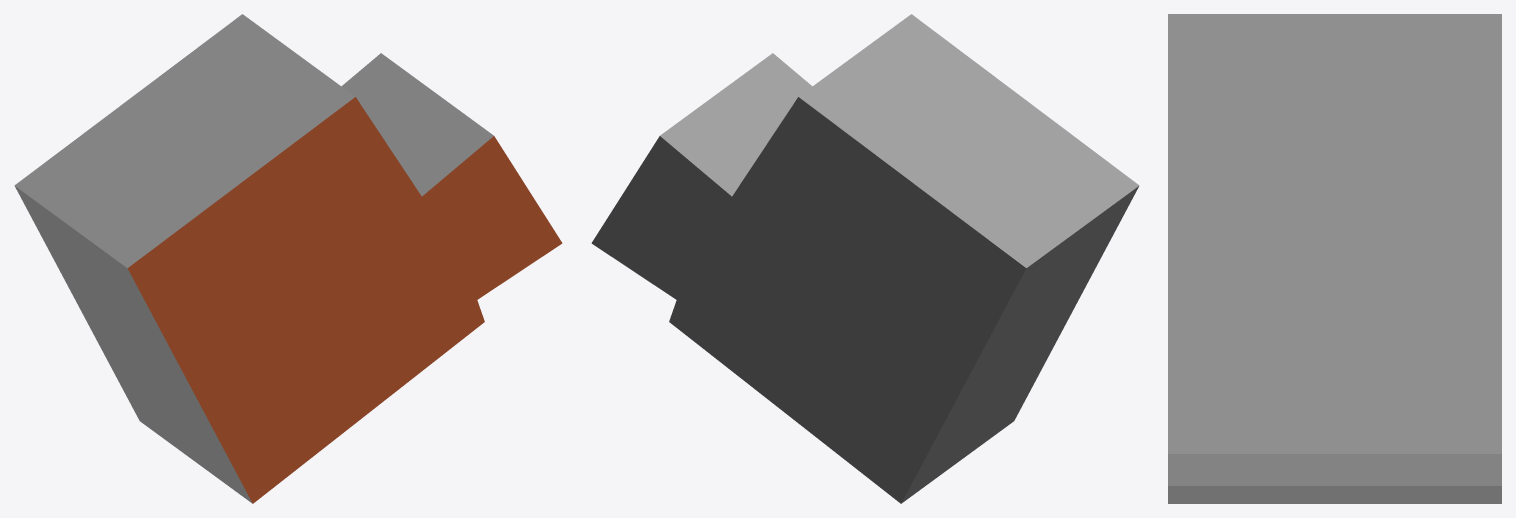
File: construction_5434_assumed_A_Casa_h6m.obj
3 views of the same model, side by side, from view 1: azimuth 30°, elevation 25°; view 2: azimuth 150°, elevation 25°; view 3: azimuth 270°, elevation 25° (orthographic). The views are drawn at different scales.
Parts seen in each view (by area): view 1: construction_5434_assumed_A_Casa; view 2: construction_5434_assumed_A_Casa; view 3: construction_5434_assumed_A_Casa.
Part boxes in pixels (left/top/right/bottom): construction_5434_assumed_A_Casa: left=14, top=14, right=562, bottom=503; construction_5434_assumed_A_Casa: left=591, top=14, right=1139, bottom=503; construction_5434_assumed_A_Casa: left=1168, top=14, right=1501, bottom=503.
Bounding box in the file's own units: 13.32 × 11.18 × 6.
